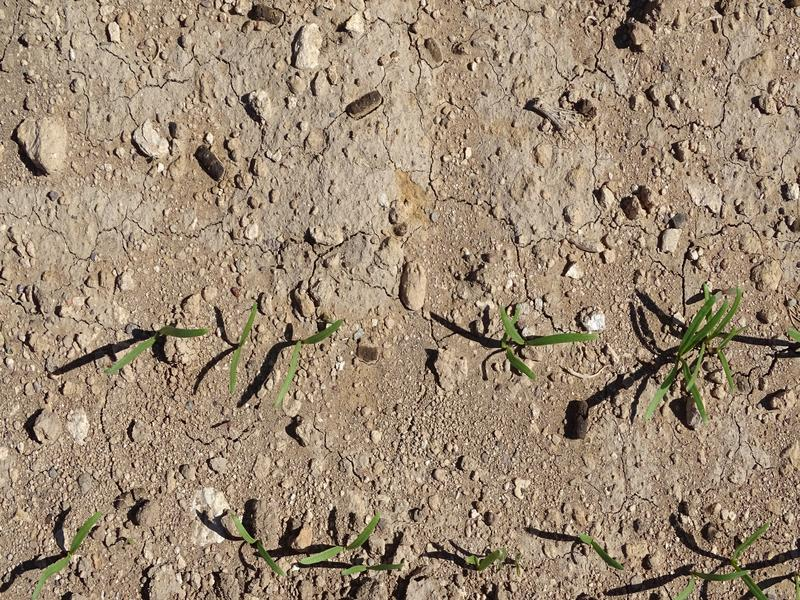Espinaca: (654, 288, 747, 413), (667, 517, 785, 598), (493, 304, 597, 375), (274, 317, 350, 403), (42, 504, 106, 587), (107, 320, 212, 370), (303, 509, 384, 565), (221, 510, 288, 577), (226, 300, 262, 391), (568, 527, 633, 570), (467, 541, 519, 580), (337, 563, 410, 571)
